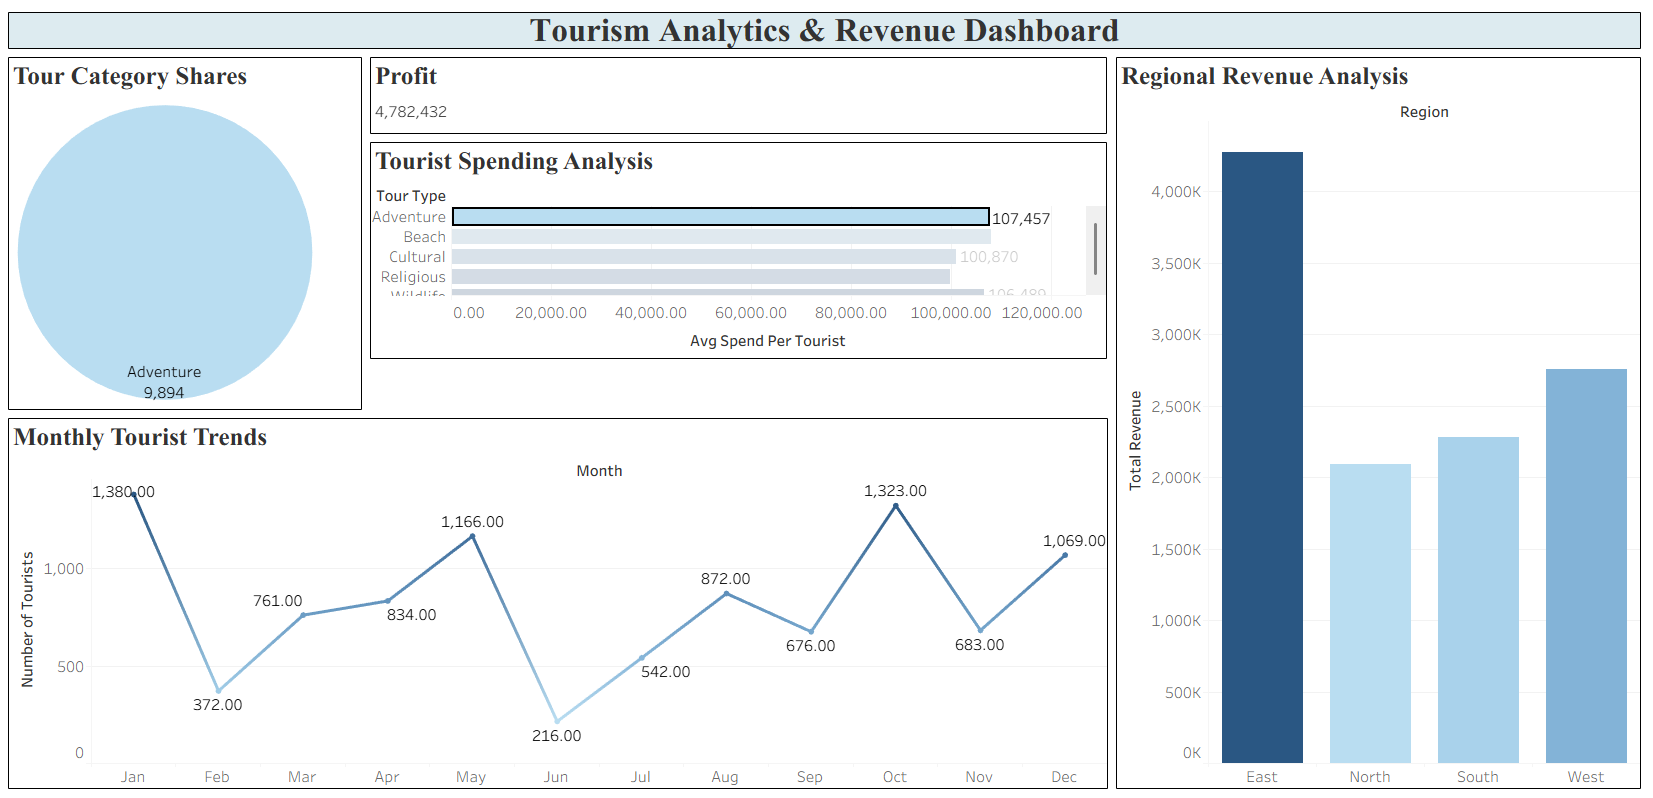

This screenshot's page, from the dashboard's own definition file:
{"tool":"tableau","page":{"name":"Dashboard 1","canvas":[1000,1000],"units":"permille","ordinal":0},"visuals":[{"type":"title","box":[4.8,10,990.3,56.2]},{"type":"worksheet","title":"Categories in Tours","mark":"Pie","box":[4.8,66.2,218.5,450.7]},{"type":"worksheet","title":"Profit","mark":"Automatic","box":[223.3,66.2,449.6,106.1]},{"type":"worksheet","title":"Revenue by Region","mark":"Automatic","rows":["Total_Revenue"],"cols":["Region"],"box":[673.5,66.2,321.7,923.8]},{"type":"worksheet","title":"spend per tourist","mark":"Automatic","rows":["Tour_Type"],"cols":["Avg_Spend_Per_Tourist"],"box":[223.3,172.3,449.6,280.9]},{"type":"worksheet","title":"Trend line of tourist","mark":"Line","rows":["Number_of_Tourists"],"cols":["Month"],"box":[4.8,516.9,668.7,473.2]}]}

Visuals, with their boxes on the dashboard's canvas, which has no fixed pixel size, in thousandths of its width and height (x1, y1, x2, y2). These are canvas units, not pixel positions in the 1653x798 screenshot, which may show the page scaled, cropped or inside an application window:
title: (5,10,995,66)
"Categories in Tours" worksheet (Pie marks): (5,66,223,517)
"Profit" worksheet: (223,66,673,172)
"Revenue by Region" worksheet: (674,66,995,990)
"spend per tourist" worksheet: (223,172,673,453)
"Trend line of tourist" worksheet (Line marks): (5,517,674,990)
